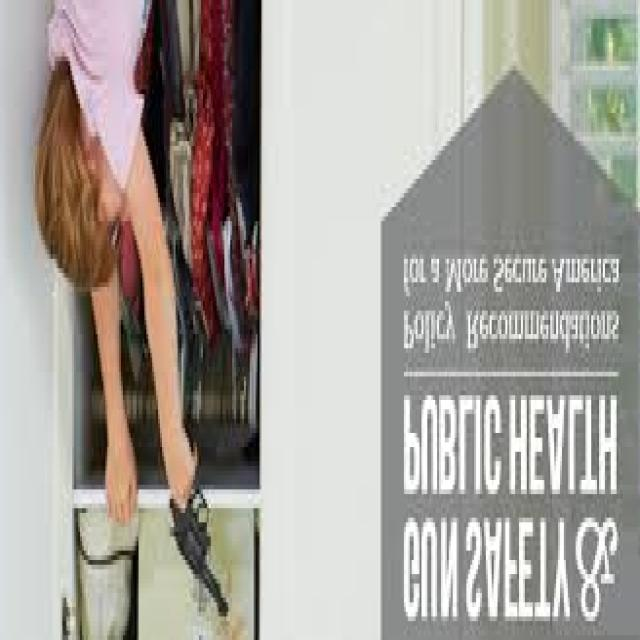gun: (162, 380, 247, 636)
